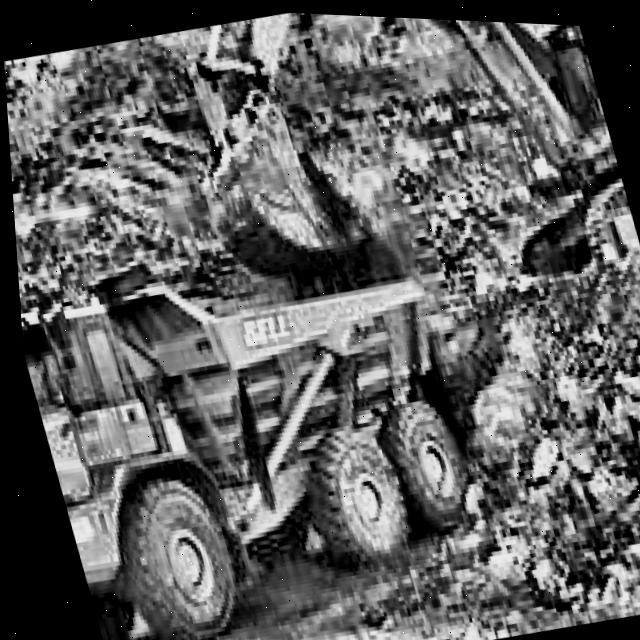dump_truck: (10, 189, 532, 640)
excavator: (169, 6, 640, 458)
